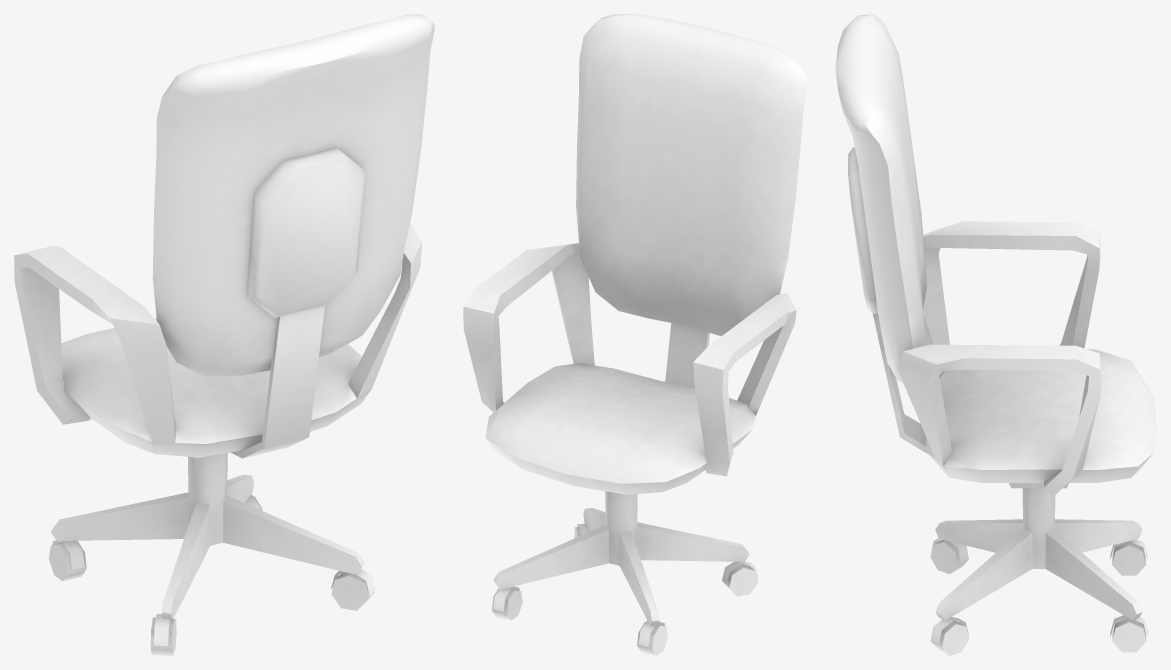
The model's file is OfficeChair.glb.
3 renders of one model, left to right at view 1: azimuth 30°, elevation 25°; view 2: azimuth 150°, elevation 25°; view 3: azimuth 270°, elevation 25°, orthographic. The views are drawn at different scales.
Parts seen in each view (by area): view 1: OfficeChair, OfficeChair.001, OfficeChair.002; view 2: OfficeChair, OfficeChair.001, OfficeChair.002; view 3: OfficeChair, OfficeChair.001, OfficeChair.002.
Part boxes in pixels (x1=…): OfficeChair: x1=61, y1=14, x2=434, y2=457; OfficeChair.001: x1=14, y1=148, x2=422, y2=645; OfficeChair.002: x1=49, y1=496, x2=374, y2=655; OfficeChair: x1=485, y1=14, x2=806, y2=494; OfficeChair.001: x1=463, y1=243, x2=796, y2=646; OfficeChair.002: x1=492, y1=527, x2=757, y2=655; OfficeChair: x1=835, y1=14, x2=1156, y2=483; OfficeChair.001: x1=848, y1=147, x2=1148, y2=644; OfficeChair.002: x1=930, y1=539, x2=1146, y2=655.
Size of the model in its own units: 0.5821 by 1.09 by 0.5755.
Materials: 1 (1 with a texture image).
